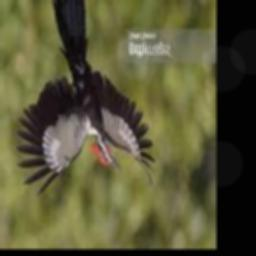Woodpecker: (17, 0, 155, 196)
